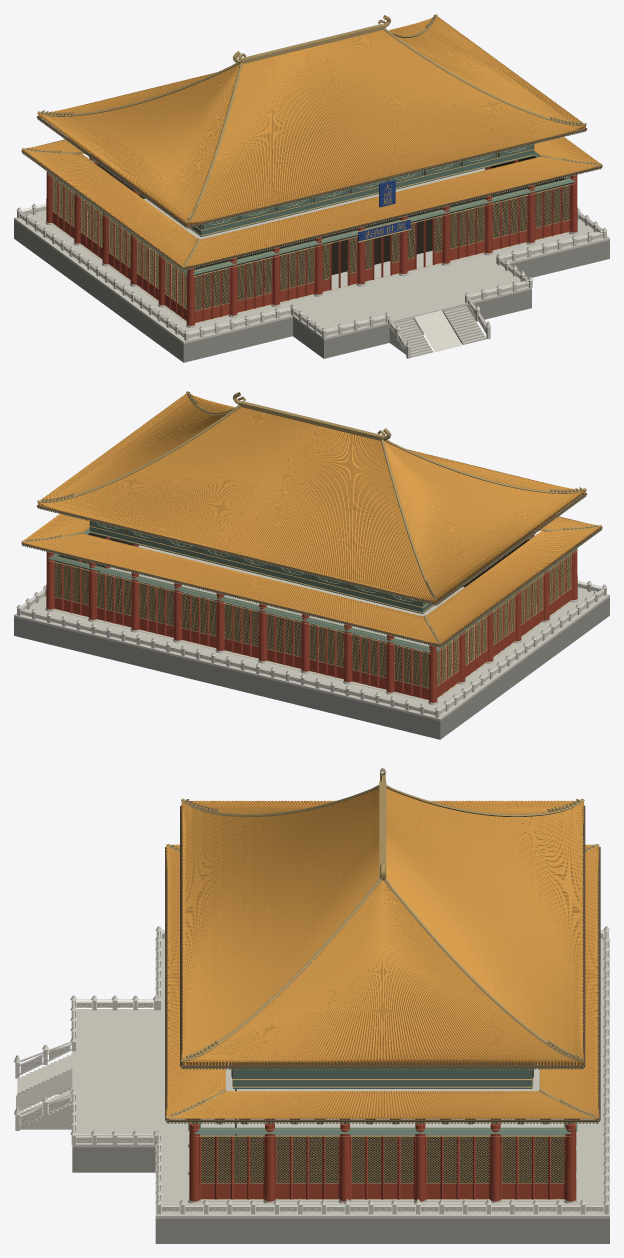
The model's file is confucius-detail.glb.
3 views of the same model, one above another, from view 1: azimuth 30°, elevation 25°; view 2: azimuth 150°, elevation 25°; view 3: azimuth 270°, elevation 25° (orthographic). The views are drawn at different scales.
Visible parts, largest first — view 1: confucius detail tile, confucius detail stone, confucius detail gold, confucius detail red, confucius detail shadow, confucius detail roof, confucius detail base, confucius detail jade, confucius detail wood, confucius detail rafter, confucius detail blue, confucius detail stoneRelief; view 2: confucius detail tile, confucius detail gold, confucius detail red, confucius detail stone, confucius detail roof, confucius detail shadow, confucius detail base, confucius detail jade, confucius detail wood, confucius detail rafter, confucius detail stoneRelief; view 3: confucius detail tile, confucius detail stone, confucius detail gold, confucius detail base, confucius detail red, confucius detail shadow, confucius detail roof, confucius detail jade, confucius detail wood, confucius detail rafter, confucius detail stoneRelief.
Part boxes in pixels (left/top/right/bottom): confucius detail tile: left=22, top=16, right=601, bottom=267; confucius detail stone: left=14, top=168, right=609, bottom=358; confucius detail gold: left=22, top=14, right=602, bottom=323; confucius detail red: left=46, top=157, right=577, bottom=325; confucius detail shadow: left=53, top=156, right=569, bottom=310; confucius detail roof: left=24, top=20, right=598, bottom=266; confucius detail base: left=14, top=220, right=609, bottom=362; confucius detail jade: left=46, top=144, right=575, bottom=274; confucius detail wood: left=21, top=27, right=602, bottom=269; confucius detail rafter: left=22, top=118, right=601, bottom=270; confucius detail blue: left=358, top=180, right=410, bottom=241; confucius detail stoneRelief: left=20, top=207, right=601, bottom=349; confucius detail tile: left=22, top=393, right=601, bottom=644; confucius detail gold: left=21, top=391, right=601, bottom=700; confucius detail red: left=46, top=534, right=577, bottom=702; confucius detail stone: left=14, top=545, right=609, bottom=720; confucius detail roof: left=25, top=397, right=599, bottom=643; confucius detail shadow: left=54, top=533, right=570, bottom=687; confucius detail base: left=14, top=597, right=609, bottom=739; confucius detail jade: left=48, top=521, right=577, bottom=651; confucius detail wood: left=21, top=404, right=602, bottom=646; confucius detail rafter: left=22, top=495, right=601, bottom=647; confucius detail stoneRelief: left=22, top=584, right=603, bottom=713; confucius detail tile: left=166, top=788, right=599, bottom=1119; confucius detail stone: left=14, top=926, right=609, bottom=1218; confucius detail gold: left=166, top=768, right=599, bottom=1199; confucius detail base: left=72, top=1147, right=609, bottom=1243; confucius detail red: left=189, top=1122, right=576, bottom=1201; confucius detail shadow: left=200, top=1089, right=564, bottom=1183; confucius detail roof: left=167, top=801, right=598, bottom=1118; confucius detail jade: left=188, top=1062, right=577, bottom=1134; confucius detail wood: left=165, top=805, right=600, bottom=1124; confucius detail rafter: left=166, top=1062, right=598, bottom=1123; confucius detail stoneRelief: left=23, top=935, right=601, bottom=1211.
Bounding box in the file's own units: 0.4797 × 0.2317 × 0.4338.
